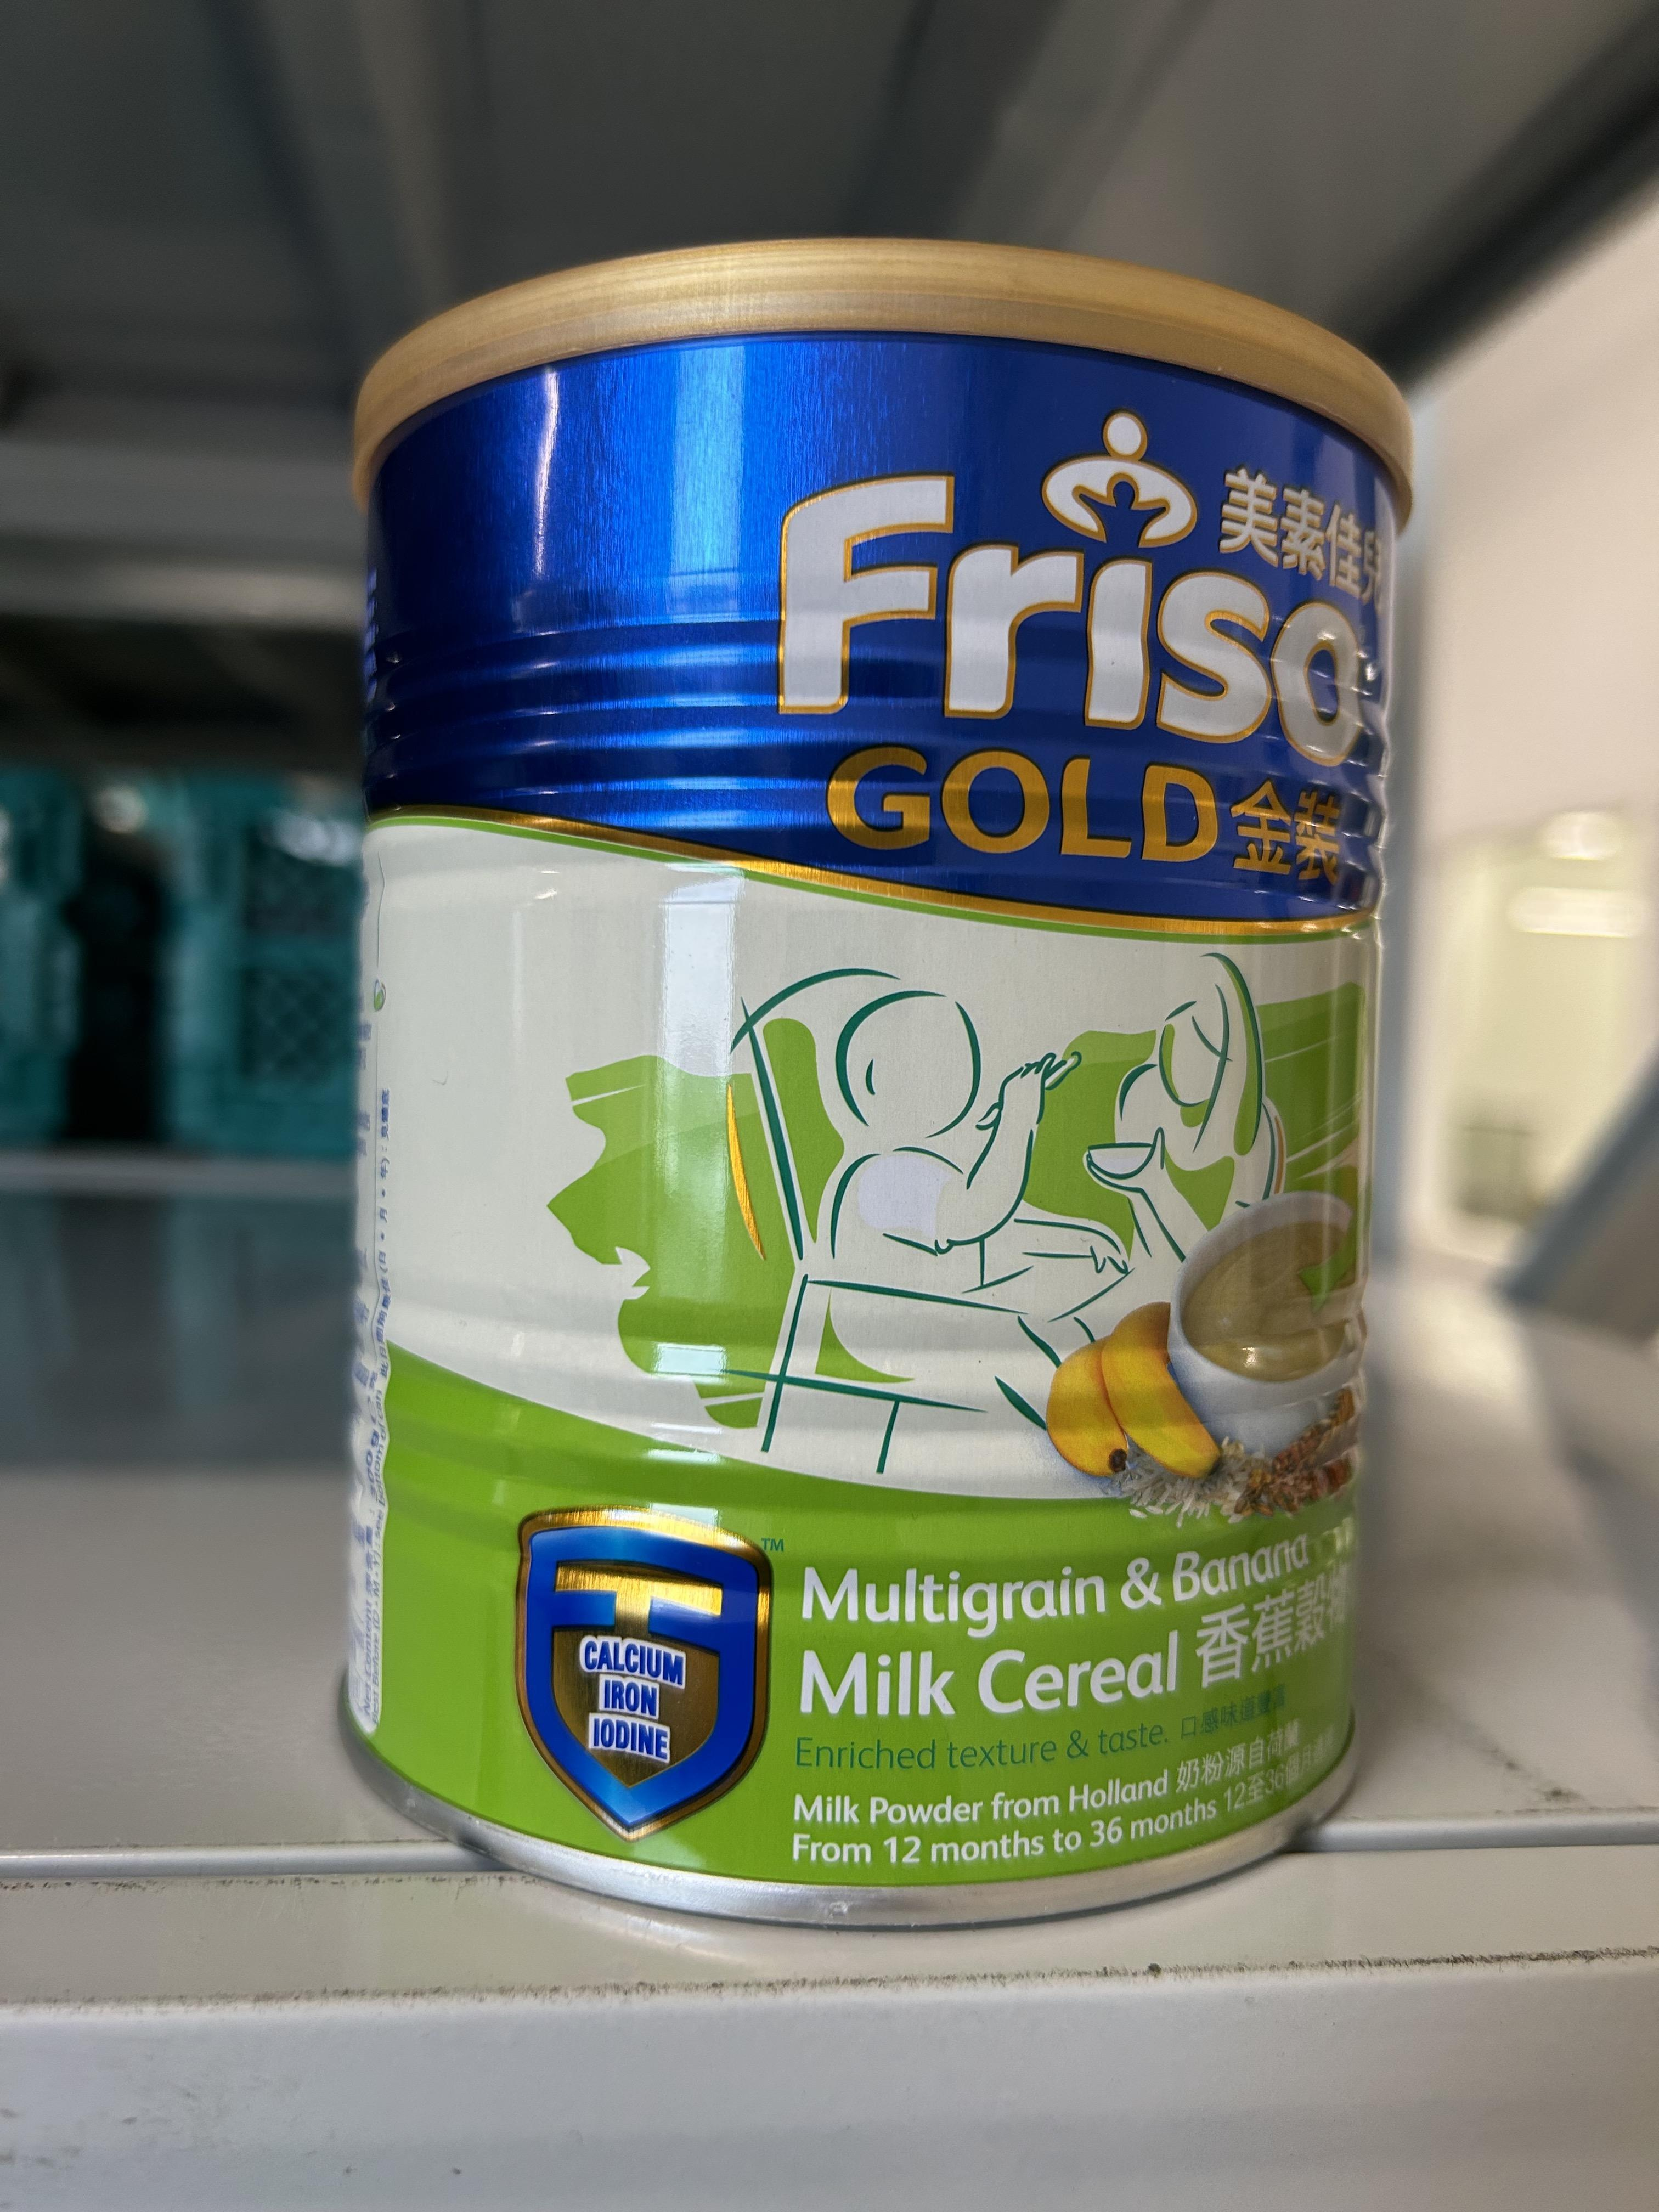object_name: (387, 373, 1349, 1780)
